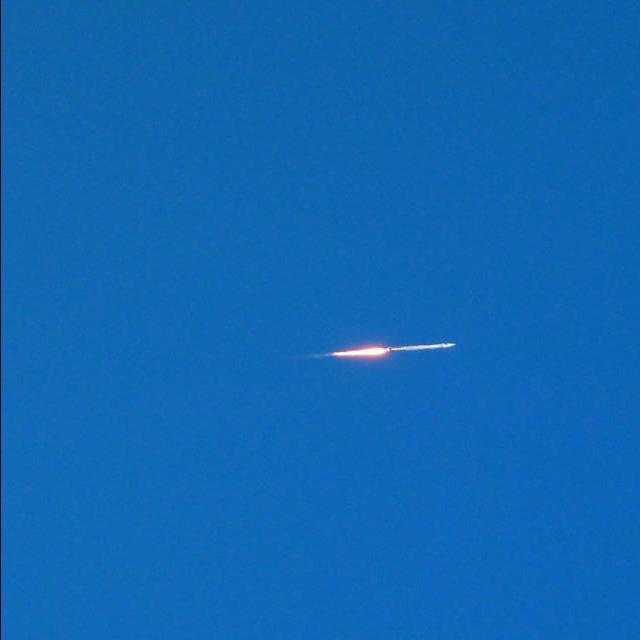missile: (388, 339, 456, 357)
